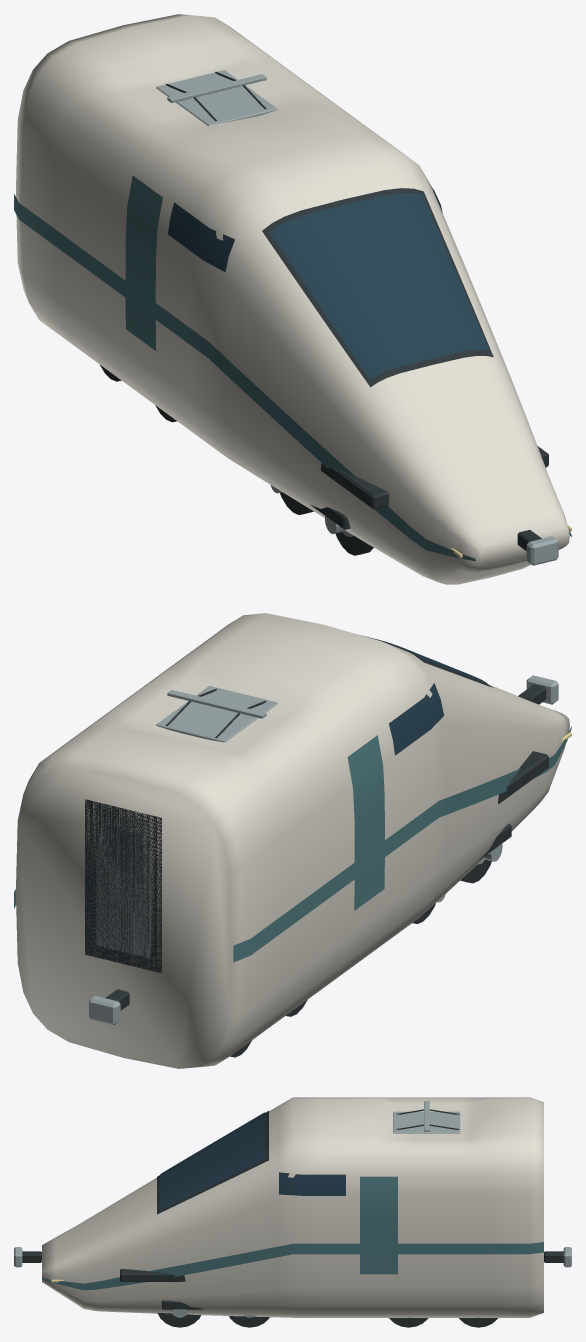
Rendered from train-loco-01-v3.glb.
3 renders of one model, top to bottom at view 1: azimuth 30°, elevation 25°; view 2: azimuth 150°, elevation 25°; view 3: azimuth 270°, elevation 25°, orthographic. The views are drawn at different scales.
Parts seen in each view (by area): view 1: LongWedgeShell, LongLowWindscreen, ContinuousTealBand, FlushServiceDoor, LaidBackWindscreenSeal, RecessedPantographBase, DriverRibbonGlass, InternalFloor, CouplerHead_Front, PantographContactBar; view 2: LongWedgeShell, EndGangway, GangwayDoor, ContinuousTealBand, FlushServiceDoor, RecessedPantographBase, DriverRibbonGlass, InternalFloor, CouplerHead_Rear, PantographContactBar, GangwayGlass; view 3: LongWedgeShell, ContinuousTealBand.001, LongLowWindscreen, FlushServiceDoor.001, DriverRibbonGlass.001, RecessedPantographBase, LaidBackWindscreenSeal, InternalFloor, RailWheel.001, RailWheel.003.
Part boxes in pixels (x1,y1,x2,y2): LongWedgeShell: (16, 14, 569, 584); LongLowWindscreen: (269, 193, 488, 379); ContinuousTealBand: (14, 194, 475, 561); FlushServiceDoor: (125, 175, 162, 350); LaidBackWindscreenSeal: (262, 188, 493, 387); RecessedPantographBase: (156, 70, 277, 125); DriverRibbonGlass: (168, 202, 234, 271); InternalFloor: (320, 446, 548, 509); CouplerHead_Front: (526, 536, 558, 565); PantographContactBar: (167, 74, 266, 102); LongWedgeShell: (16, 613, 569, 1068); EndGangway: (85, 799, 161, 972); GangwayDoor: (96, 811, 150, 957); ContinuousTealBand: (233, 726, 571, 962); FlushServiceDoor: (347, 735, 384, 910); RecessedPantographBase: (156, 686, 277, 742); DriverRibbonGlass: (389, 683, 443, 755); InternalFloor: (498, 751, 548, 804); CouplerHead_Rear: (89, 996, 120, 1025); PantographContactBar: (167, 690, 266, 718); GangwayGlass: (106, 827, 141, 874); LongWedgeShell: (42, 1097, 543, 1317); ContinuousTealBand.001: (42, 1242, 543, 1290); LongLowWindscreen: (160, 1112, 264, 1210); FlushServiceDoor.001: (360, 1176, 397, 1274); DriverRibbonGlass.001: (279, 1172, 345, 1195); RecessedPantographBase: (393, 1111, 460, 1133); LaidBackWindscreenSeal: (157, 1111, 268, 1214); InternalFloor: (120, 1268, 185, 1281); RailWheel.001: (157, 1312, 201, 1327); RailWheel.003: (229, 1316, 269, 1327).
Bounding box in the file's own units: 3 × 3.8 × 10.
